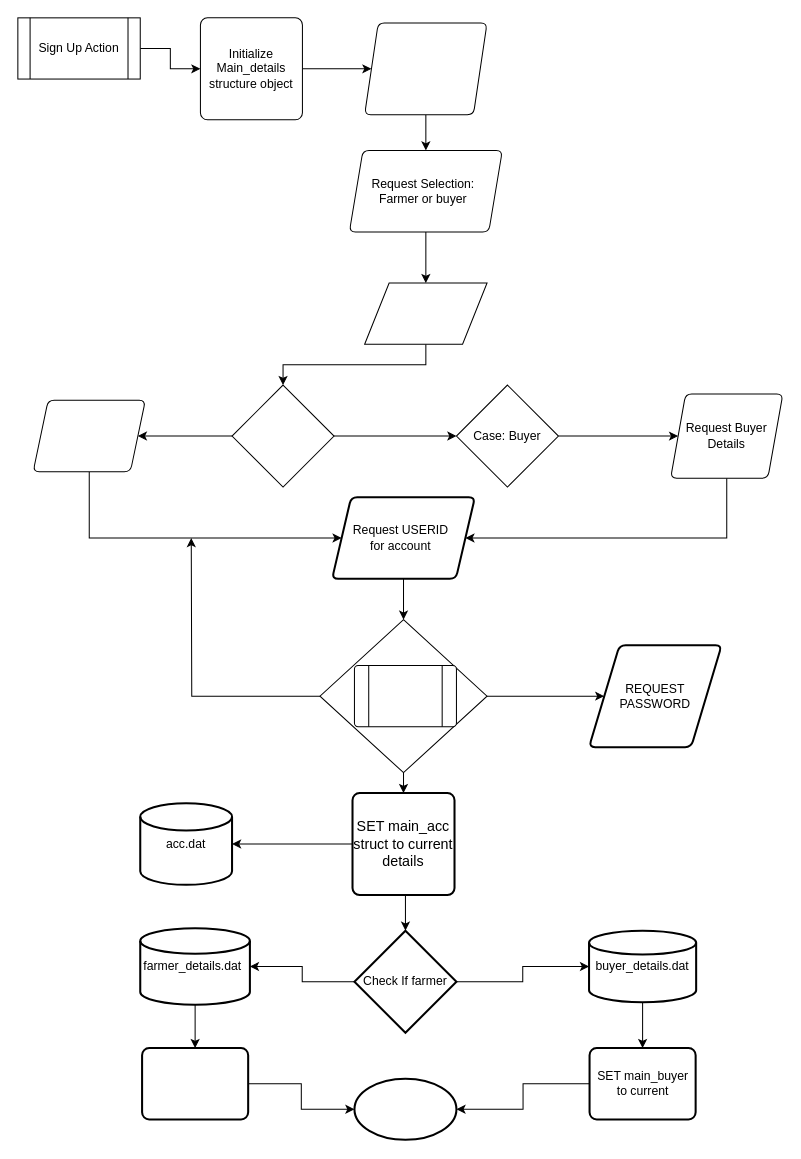
The diagram is 801 pixels wide and 1159 high, and some of its shapes have lost their labels. Here are the shapes that lost their labels. From the top down, the centre of each, then its label:
the point at 425,68: Request Main_details object variables
the point at 425,313: Switch Selection
the point at 88,435: Request Farmer Details
the point at 282,435: Case: Farmer
the point at 404,696: CHECK USERID EXISTS PROCESS
the point at 195,1083: SET main_farmer to current
the point at 405,1108: TERMINATE FUNCTION
